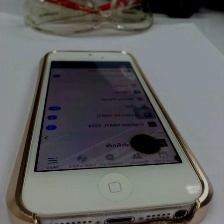phone: (6, 47, 218, 224)
